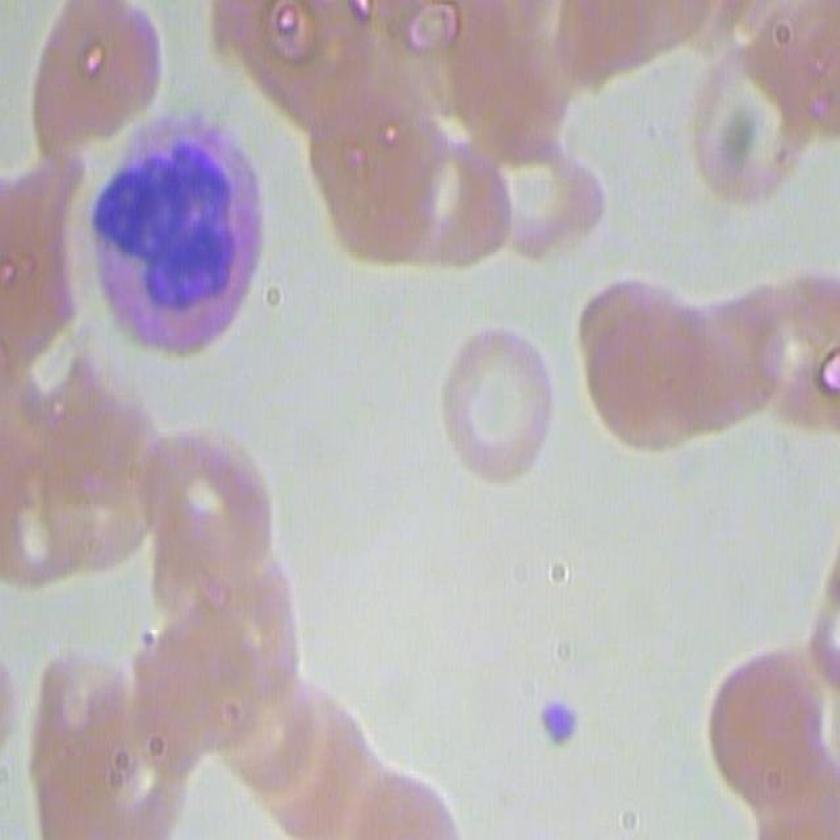eosinophil: (86, 92, 265, 353)
